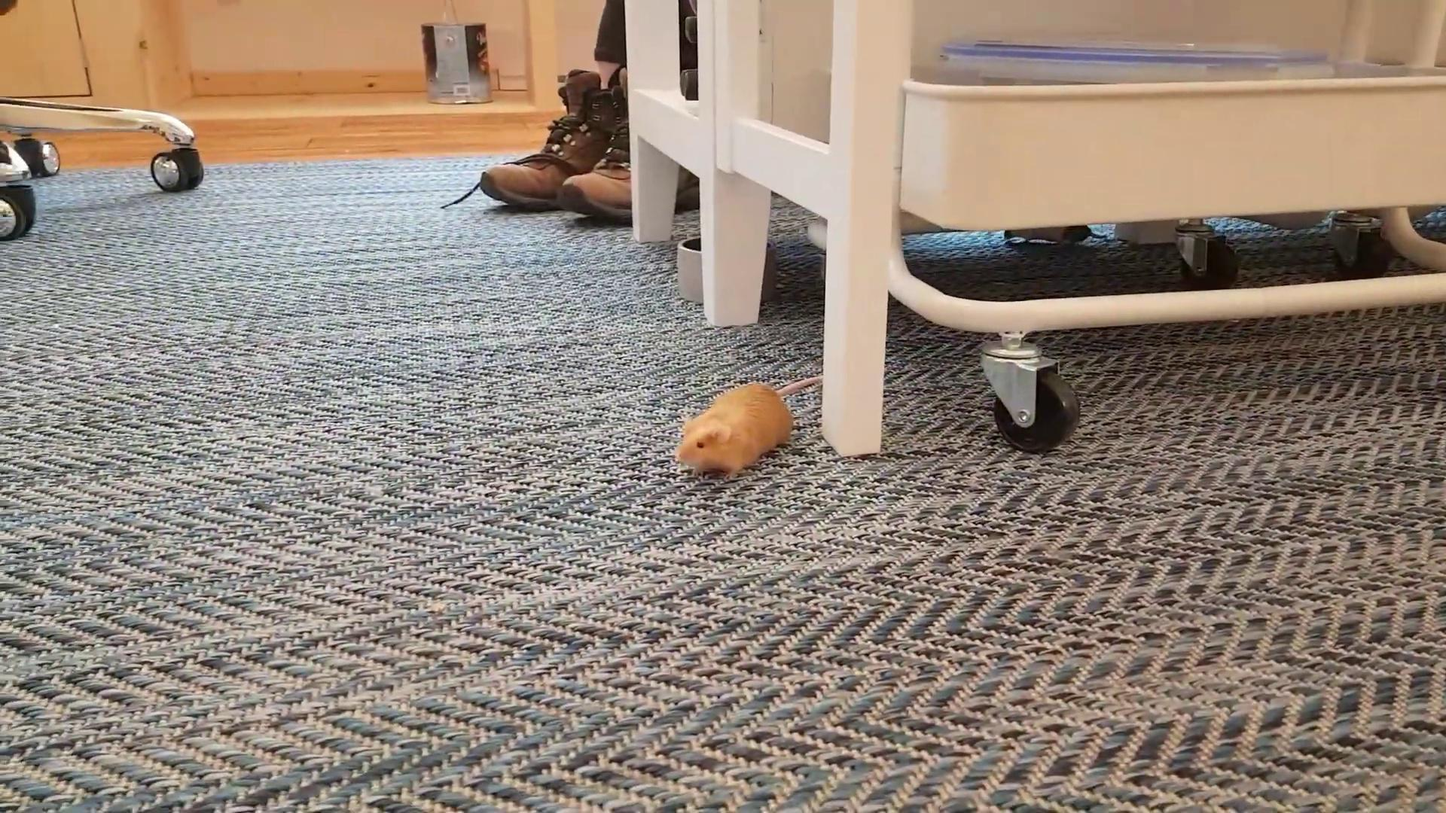rat: (677, 374, 826, 482)
